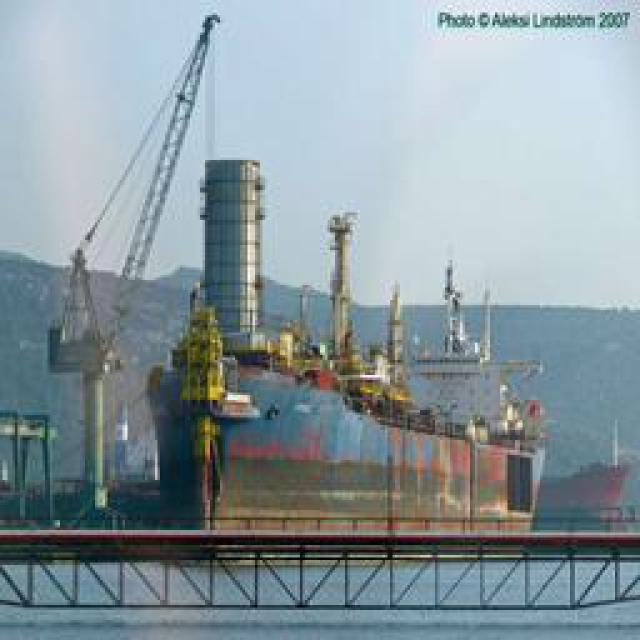Ship: (38, 230, 583, 538)
